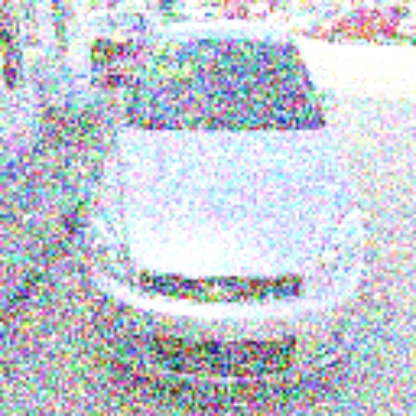Vehicle: (79, 19, 367, 394)
